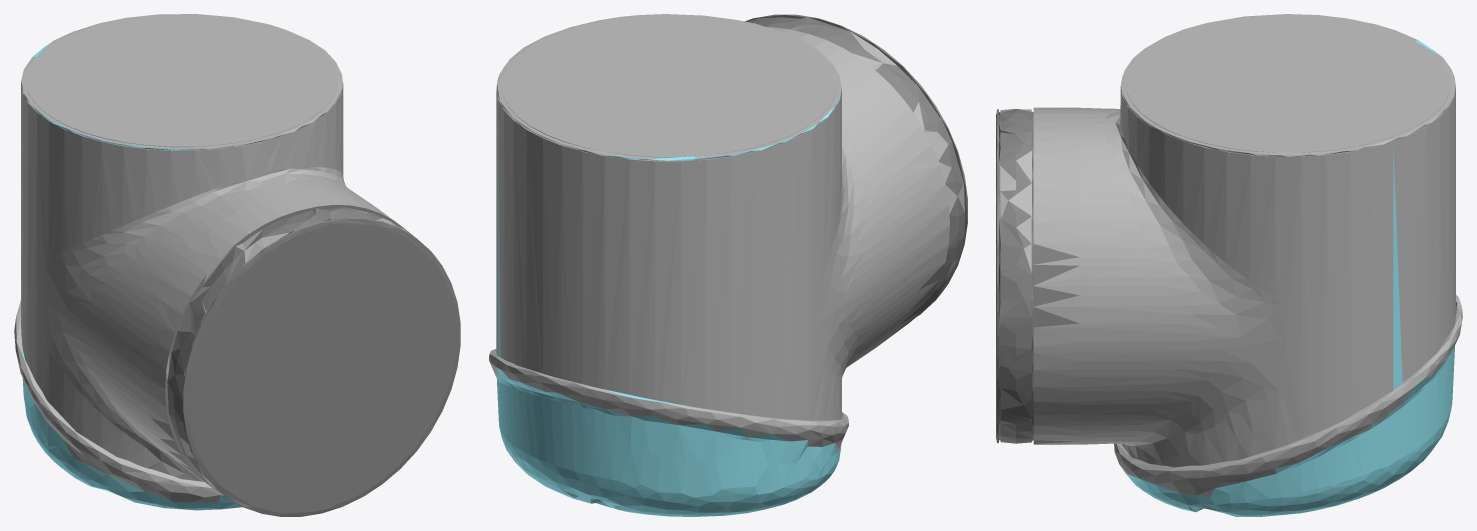
The model's file is UR10eLink4.dae.
3 renders of one model, left to right at view 1: azimuth 30°, elevation 25°; view 2: azimuth 150°, elevation 25°; view 3: azimuth 270°, elevation 25°, orthographic. The views are drawn at different scales.
Parts seen in each view (by area): view 1: UR10eLink4; view 2: UR10eLink4; view 3: UR10eLink4.
Boxes of the visible parts, x1=… form: UR10eLink4: x1=14, y1=14, x2=460, y2=516; UR10eLink4: x1=489, y1=14, x2=967, y2=516; UR10eLink4: x1=996, y1=14, x2=1462, y2=516.
Bounding box in the file's own units: 0.0937 × 0.1253 × 0.114.
